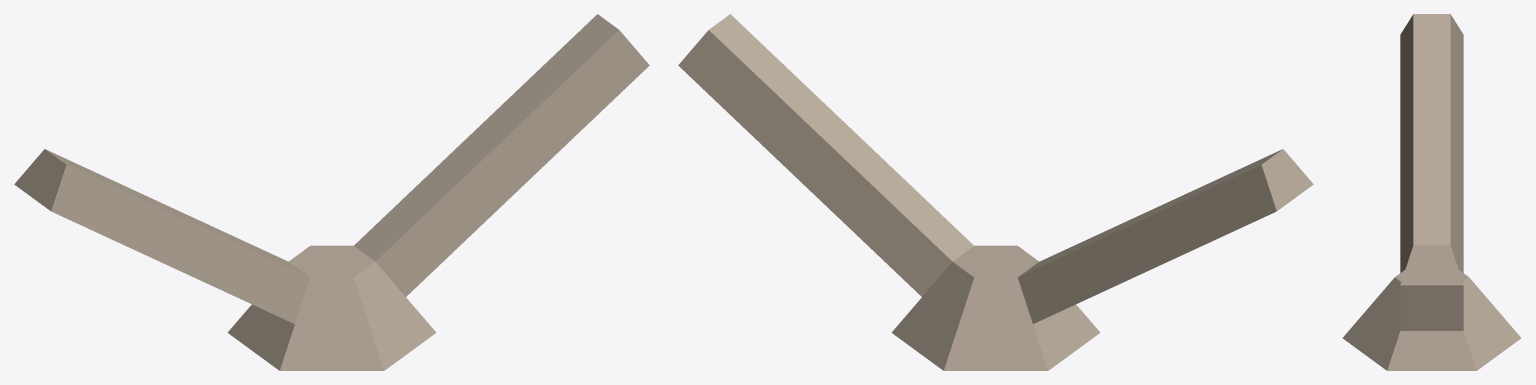
File: kitTelevisionAntenna.glb
3 renders of one model, left to right at view 1: azimuth 30°, elevation 25°; view 2: azimuth 150°, elevation 25°; view 3: azimuth 270°, elevation 25°, orthographic. The views are drawn at different scales.
Parts seen in each view (by area): view 1: kitTelevisionAntenna_metalMedium; view 2: kitTelevisionAntenna_metalMedium; view 3: kitTelevisionAntenna_metalMedium.
Part boxes in pixels (x1,y1,x2,y2): kitTelevisionAntenna_metalMedium: [14, 14, 649, 370]; kitTelevisionAntenna_metalMedium: [678, 14, 1313, 370]; kitTelevisionAntenna_metalMedium: [1342, 14, 1521, 370].
Bounding box in the file's own units: 0.34 × 0.132 × 0.1028.
